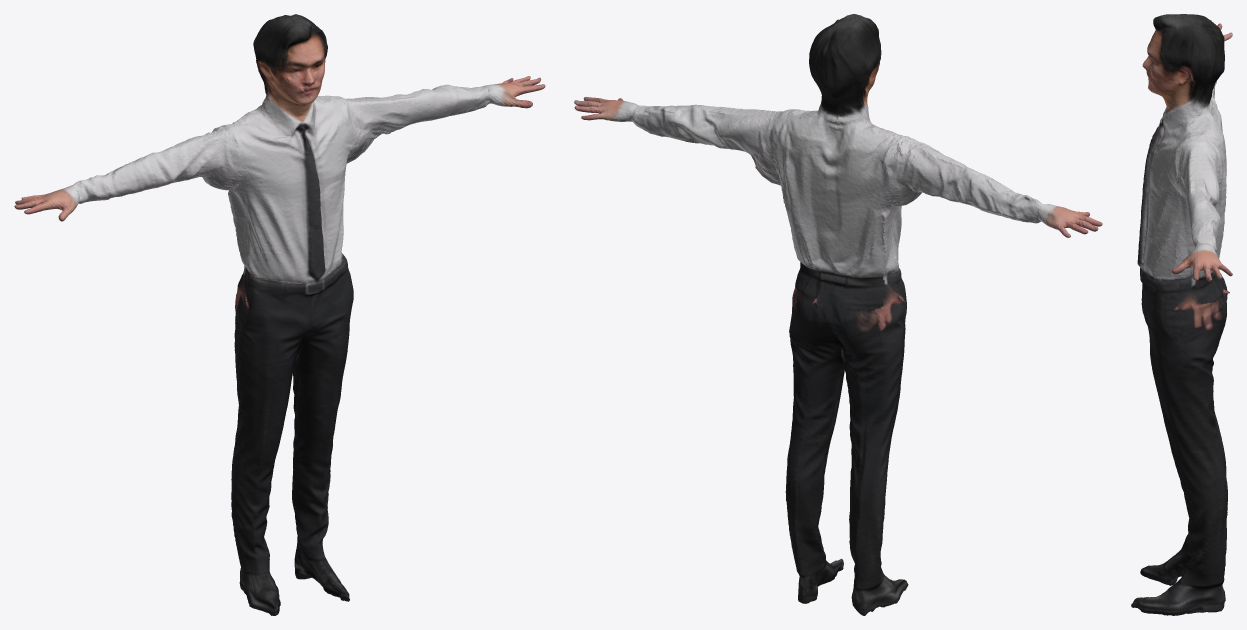
The model's file is animation_lowres.obj.
3 views of the same model, side by side, from view 1: azimuth 30°, elevation 25°; view 2: azimuth 150°, elevation 25°; view 3: azimuth 270°, elevation 25° (orthographic).
Size of the model in its own units: 1.69 by 1.77 by 0.2806.
